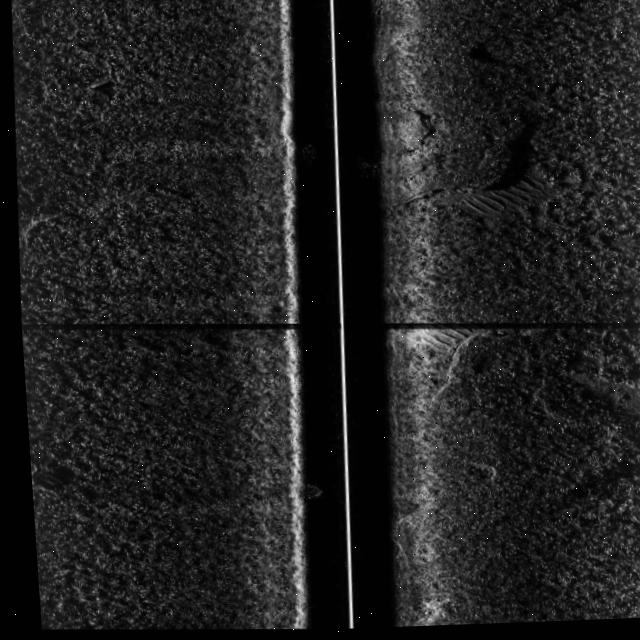mine: (83, 75, 118, 97)
